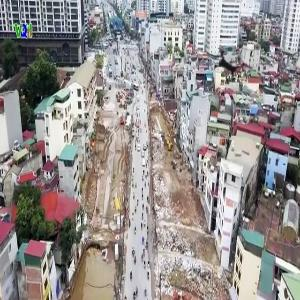drone: (200, 33, 265, 98)
